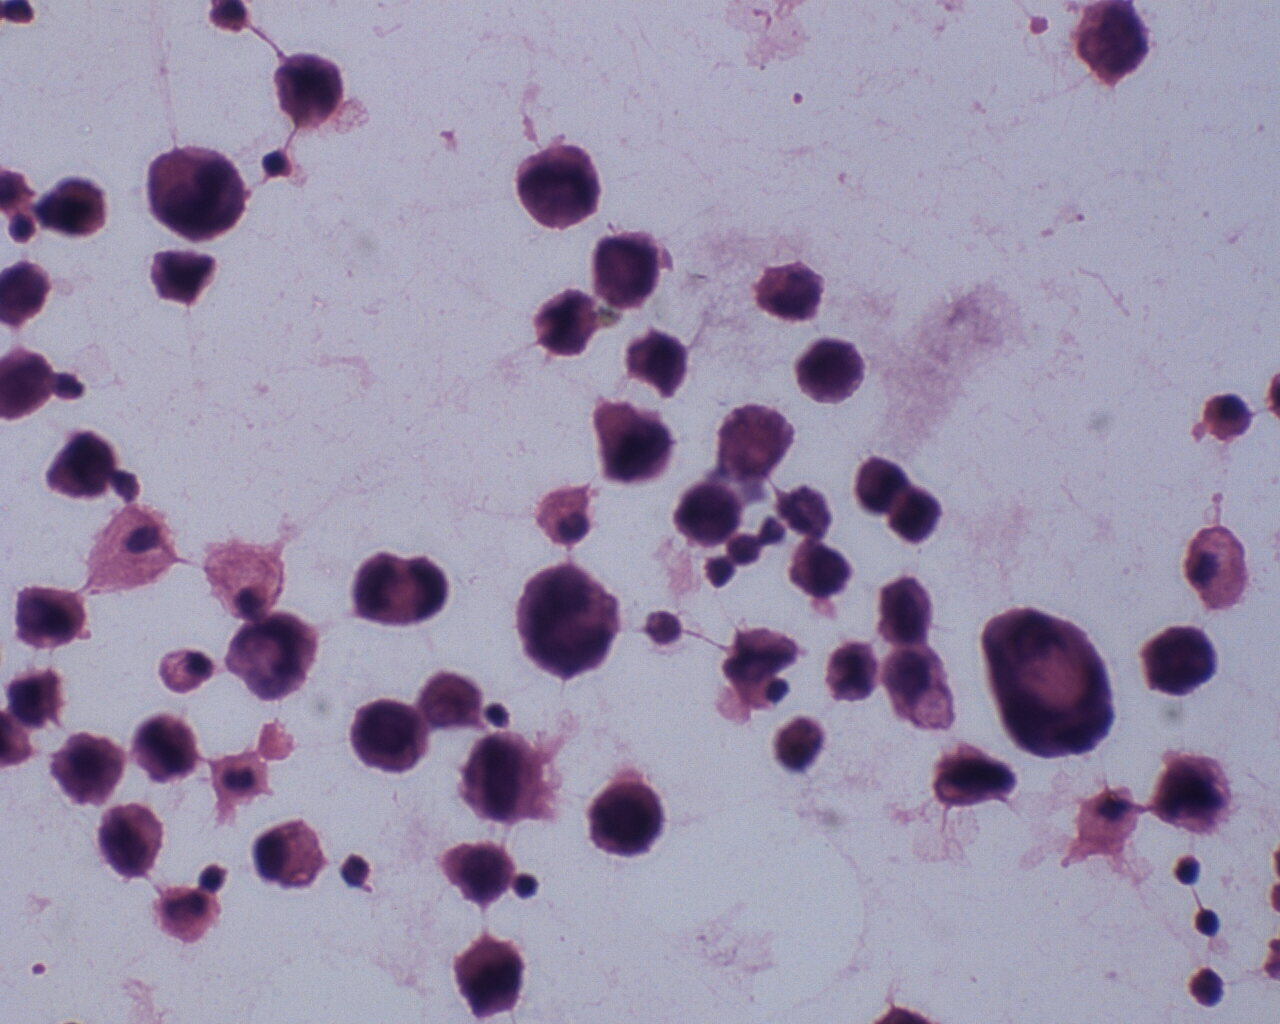ab: (516, 557, 626, 677), (141, 143, 246, 243), (455, 731, 559, 832), (1145, 744, 1240, 842), (515, 136, 607, 226), (591, 394, 676, 488), (924, 740, 1020, 816), (453, 935, 532, 1022), (793, 329, 871, 415), (589, 777, 667, 864), (350, 695, 434, 774), (590, 232, 673, 309), (46, 728, 126, 807), (1139, 620, 1218, 697), (45, 424, 119, 506), (434, 837, 515, 911), (620, 325, 698, 399), (31, 170, 111, 243), (274, 45, 346, 125), (131, 706, 202, 779), (10, 579, 85, 649), (874, 569, 940, 647), (671, 479, 745, 546), (97, 801, 164, 877), (531, 288, 599, 360), (749, 255, 822, 322), (788, 537, 857, 605)
histo: (197, 530, 297, 621), (1185, 523, 1252, 615), (253, 819, 329, 898)
